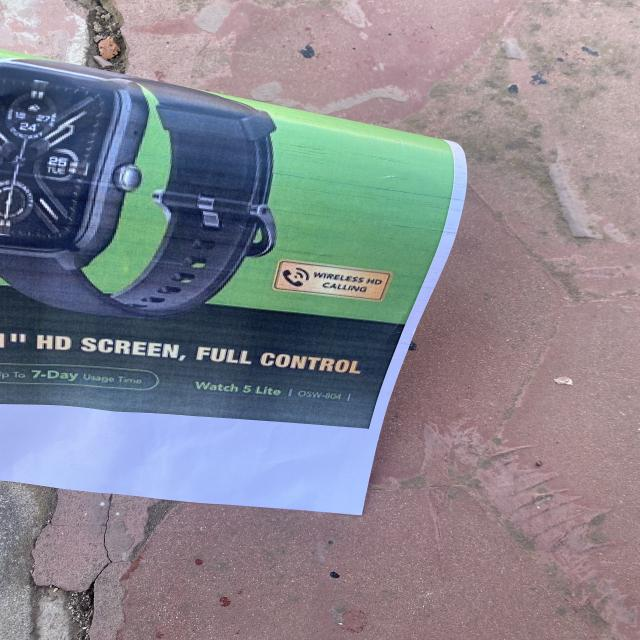Watch 5 Lite OSW-804: (188, 375, 358, 407)
